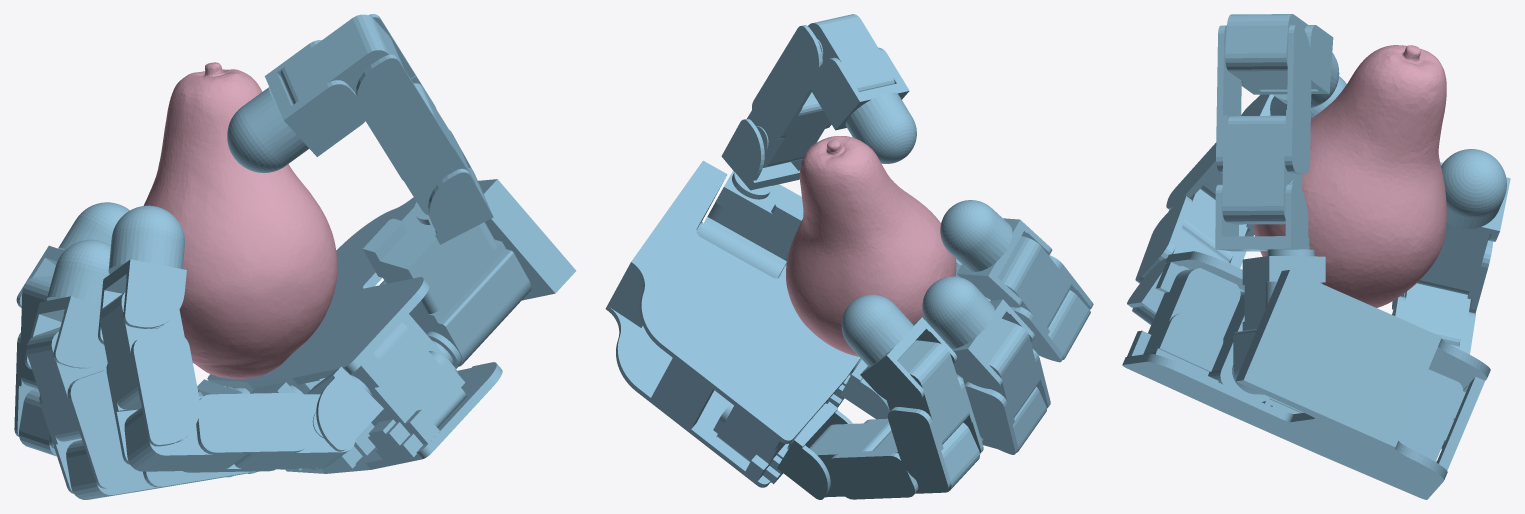
The picture shows the model from 3 angles, left to right: view 1: azimuth 30°, elevation 25°; view 2: azimuth 150°, elevation 25°; view 3: azimuth 270°, elevation 25°; orthographic projection. The views are drawn at different scales.
Visible parts, largest first — view 1: world; view 2: world; view 3: world.
Part boxes in pixels (x1=…): world: x1=14, y1=14, x2=576, y2=499; world: x1=605, y1=14, x2=1093, y2=499; world: x1=1122, y1=14, x2=1510, y2=499.
Bounding box in the file's own units: 0.1815 × 0.1814 × 0.1311.
